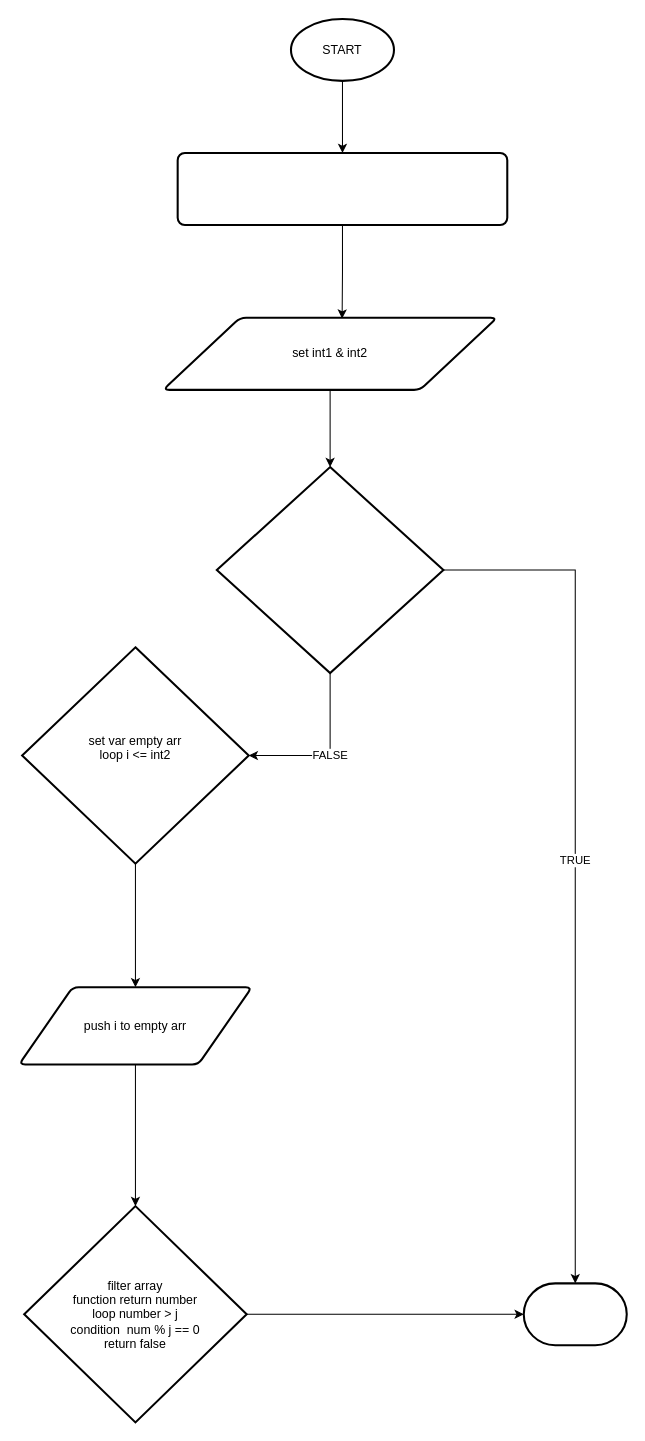
This 645x1441 diagram has some shape labels left out. The box of each missing label's shape, as (x1, y1, x2, y2) in pixels:
condition int1 >= int2: (215, 466, 444, 674)
END: (522, 1282, 627, 1346)
INIT int1, int2, var arr, fn return number: (176, 151, 508, 226)
